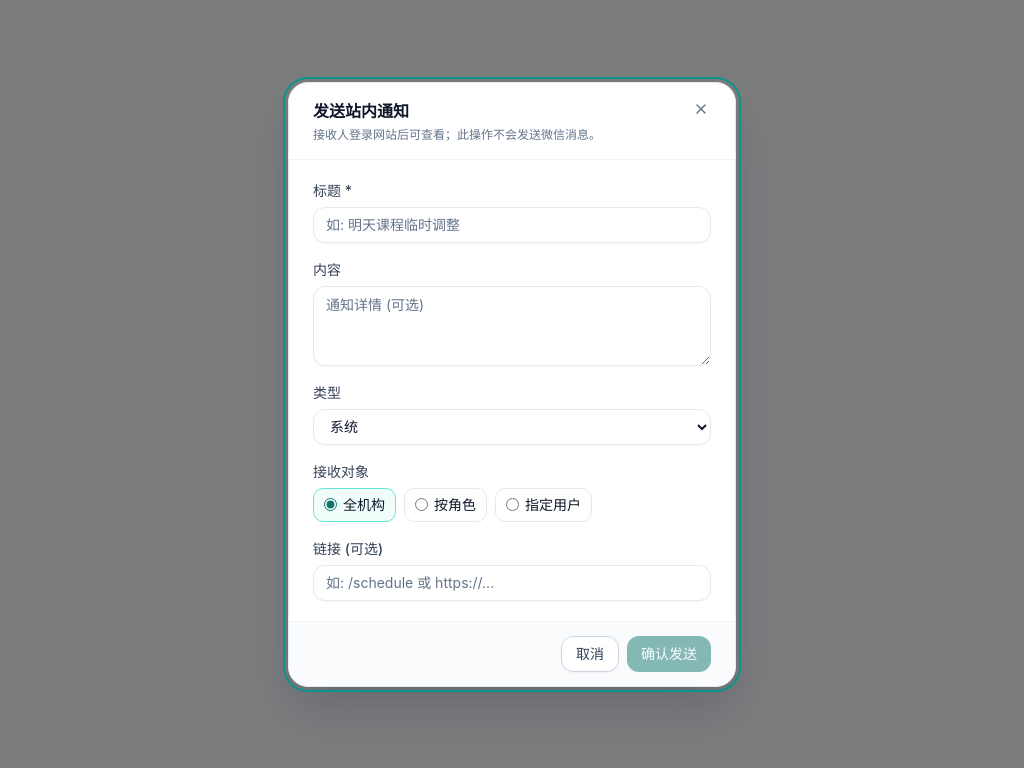
Scenario: 按姓名选择家长，发送失败保留内容并显示错误
Type "上课通知" into the field labelled "标题 *".
click(512, 224); type("上课通知")  # box [313,206,711,242]
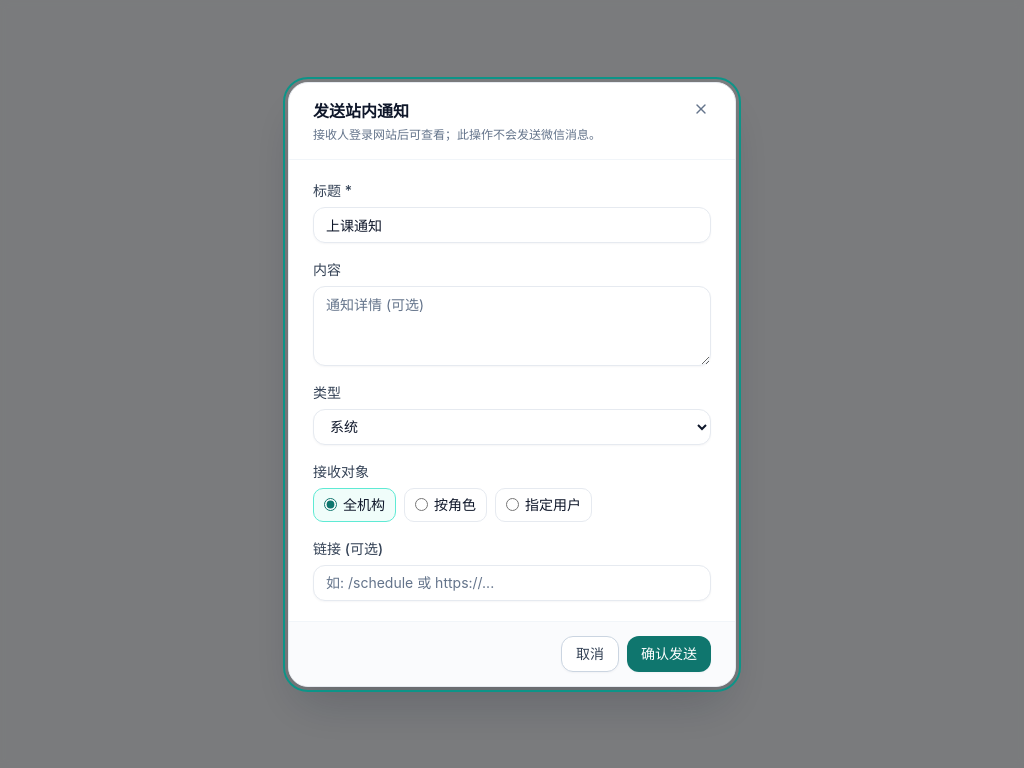
Click the radio button labelled "指定用户".
click(512, 504)  # box [506,498,519,511]
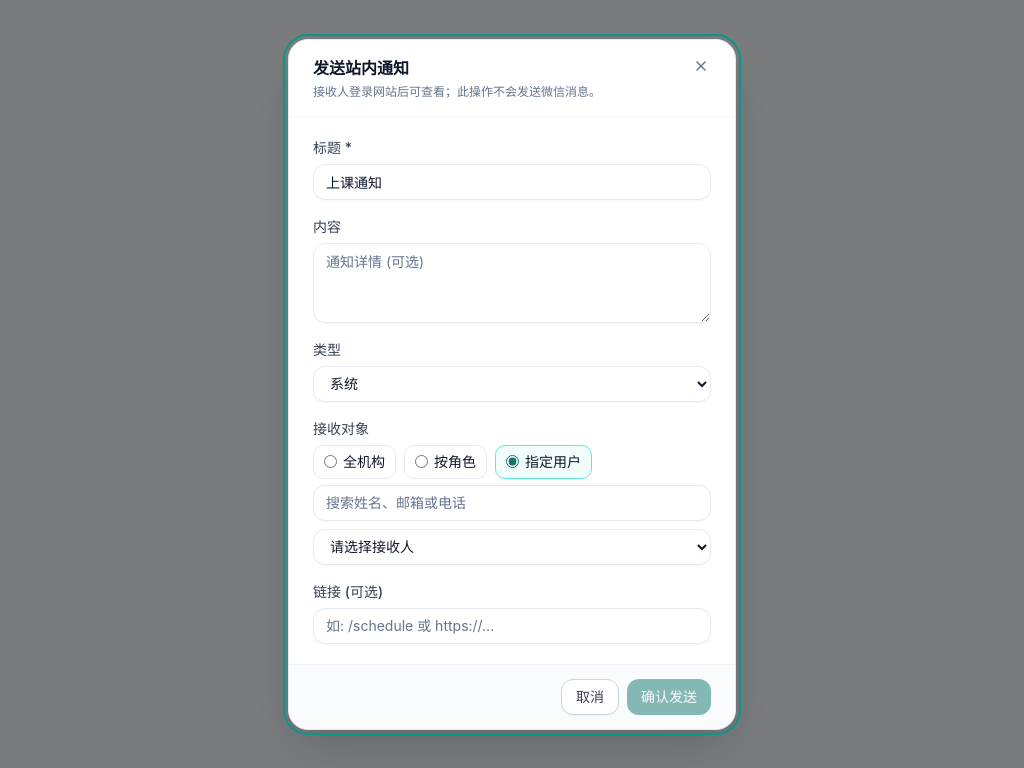
Type "13800000000" into the field named "搜索接收人".
click(512, 502); type("13800000000")  # box [313,484,711,520]
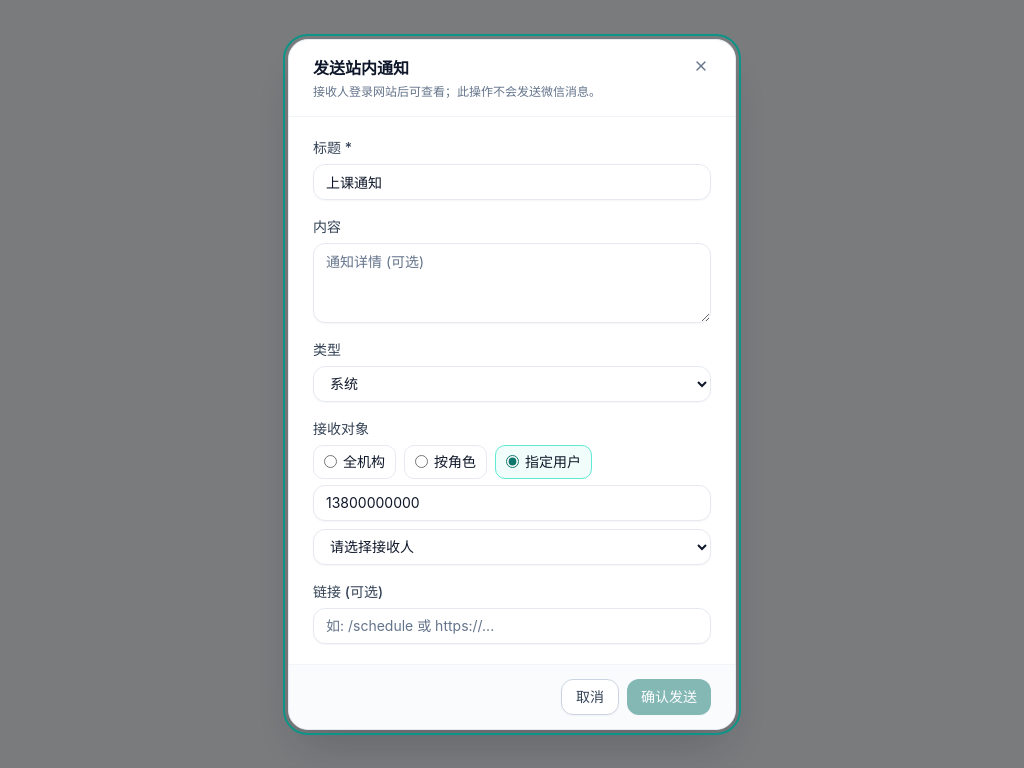
Select "Lily 妈妈 · 家长 · parent@example.com" in the dropdown named "选择接收人" at x=512, y=546, box [313,528,711,564]
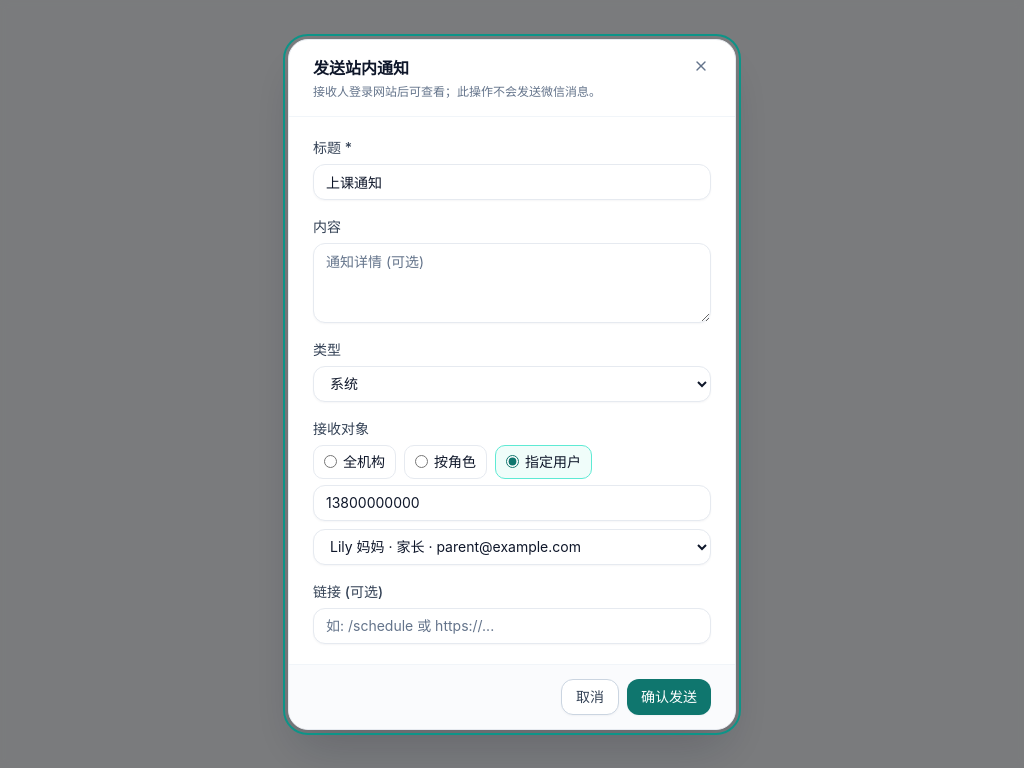
Click the button "确认发送".
click(669, 696)  # box [627,678,711,714]
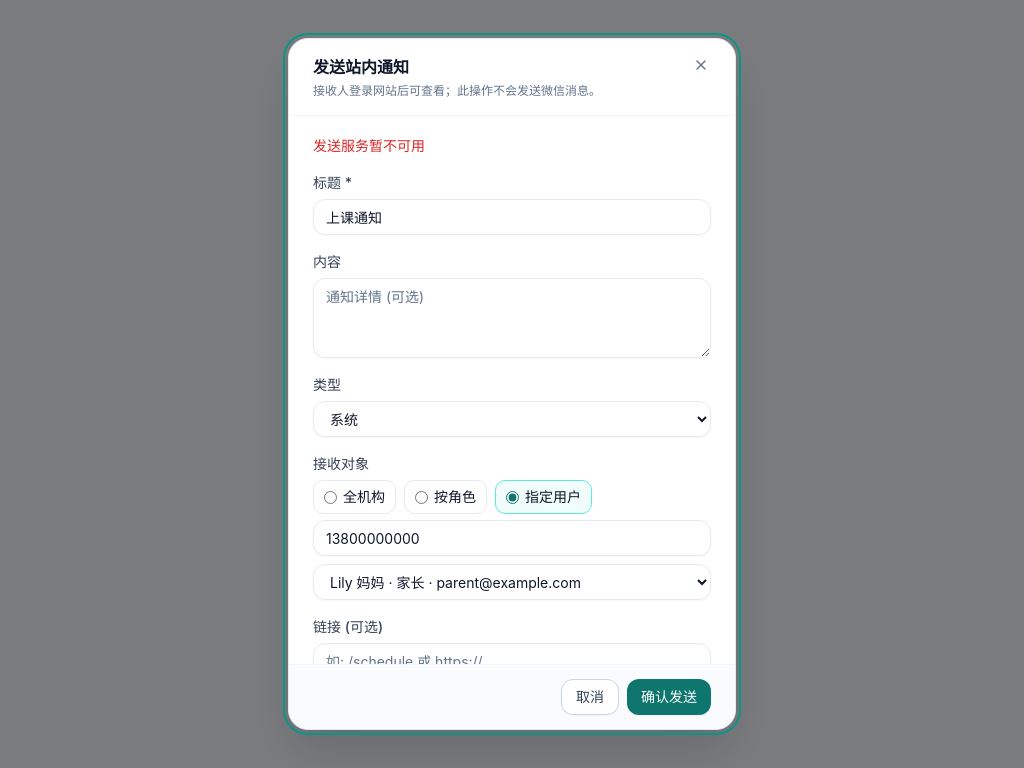
Now the message reads "发送服务暂不可用", box [313,137,425,154]
